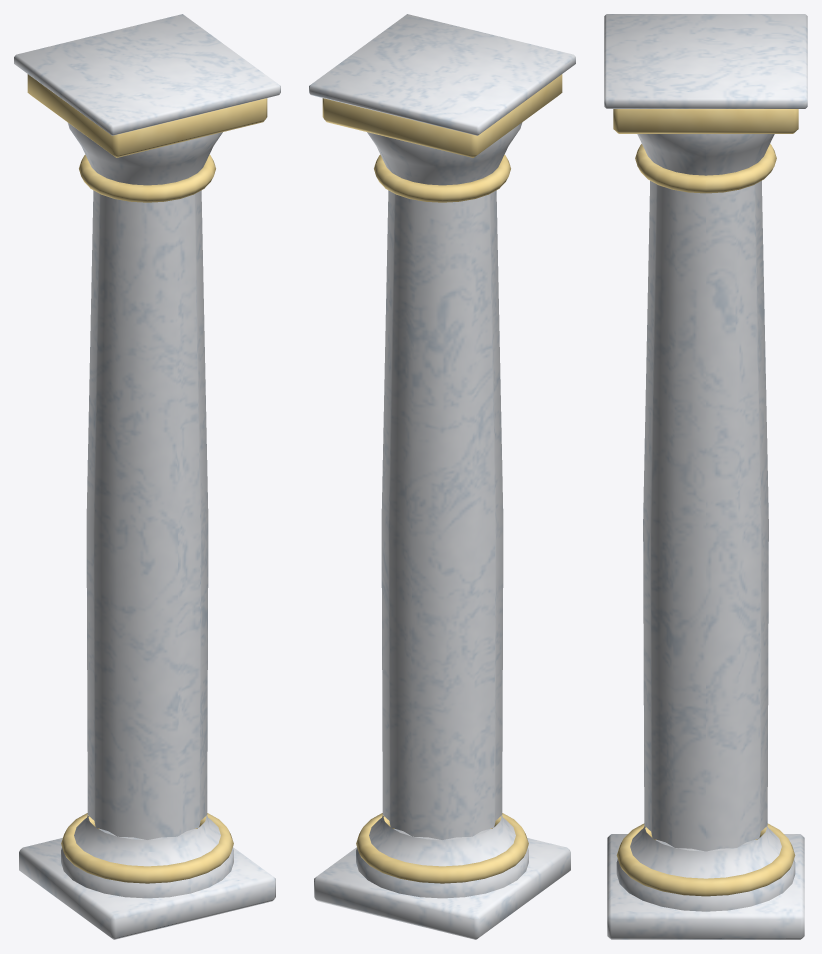
File: temple_column.gltf
3 views of the same model, side by side, from view 1: azimuth 30°, elevation 25°; view 2: azimuth 150°, elevation 25°; view 3: azimuth 270°, elevation 25° (orthographic). The views are drawn at different scales.
Parts seen in each view (by area): view 1: temple_column; view 2: temple_column; view 3: temple_column.
Boxes of the visible parts, x1=… form: temple_column: x1=14, y1=14, x2=280, y2=939; temple_column: x1=309, y1=14, x2=575, y2=939; temple_column: x1=604, y1=14, x2=807, y2=939.
Size of the model in its own units: 0.99 by 4.53 by 0.99.
Materials: 1 (1 with a texture image).
